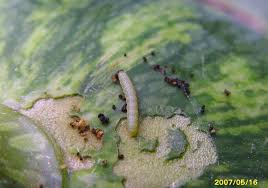Armyworm: (116, 63, 146, 140)
